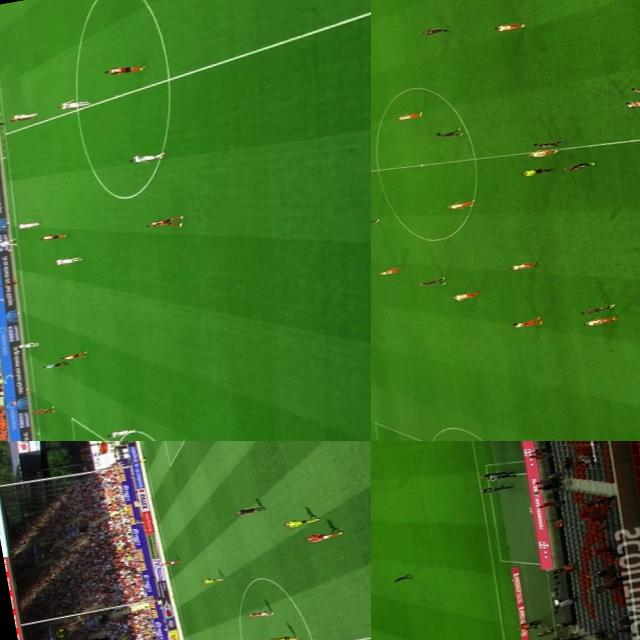ball: (4, 248, 13, 253)
player: (96, 61, 143, 79), (124, 148, 164, 166), (303, 528, 342, 546), (141, 216, 183, 231), (578, 313, 616, 329), (54, 97, 90, 113), (577, 302, 615, 316), (280, 516, 317, 530), (559, 157, 591, 172), (490, 20, 524, 34), (412, 276, 444, 290), (247, 606, 278, 620), (6, 108, 36, 122), (507, 318, 542, 330), (50, 254, 82, 267), (527, 146, 559, 159), (432, 126, 461, 139), (100, 428, 134, 439), (417, 26, 448, 38), (530, 138, 561, 150), (264, 630, 299, 640), (1, 113, 32, 124), (59, 350, 92, 360), (28, 407, 58, 418), (508, 260, 535, 272), (36, 230, 62, 242), (447, 198, 473, 210), (450, 290, 476, 302), (198, 573, 222, 586), (14, 340, 38, 352), (374, 267, 402, 277), (11, 219, 38, 229), (394, 112, 421, 122), (624, 96, 640, 111), (157, 558, 180, 568), (0, 237, 18, 248), (626, 82, 640, 96)
